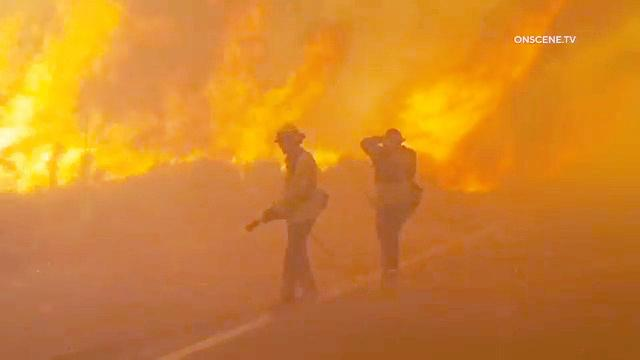fire: (0, 1, 122, 197)
smoke: (294, 1, 459, 81), (522, 82, 634, 180)
